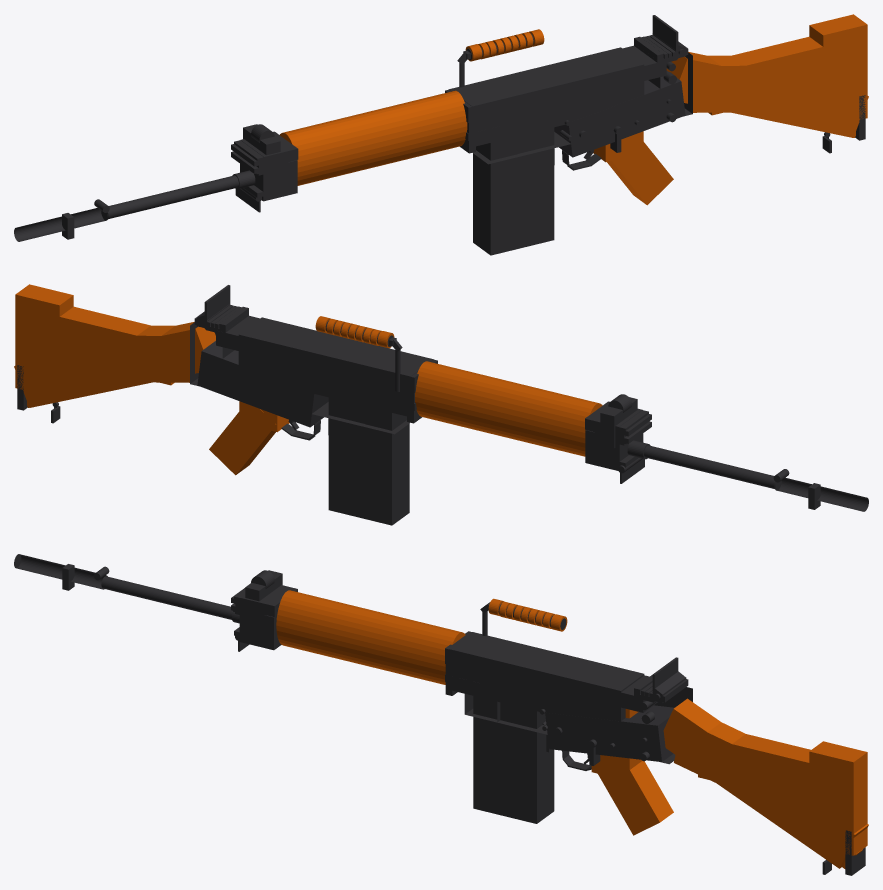
3 renders of one model, top to bottom at view 1: azimuth 30°, elevation 25°; view 2: azimuth 150°, elevation 25°; view 3: azimuth 330°, elevation 25°, orthographic.
Visible parts, largest first — view 1: Cube.051; view 2: Cube.051; view 3: Cube.051.
Boxes of the visible parts, <box> form: Cube.051: <box>14,14,868,255</box>; Cube.051: <box>14,284,868,525</box>; Cube.051: <box>14,554,868,875</box>.
Bounding box in the file's own units: 995 × 219 × 61.72.
